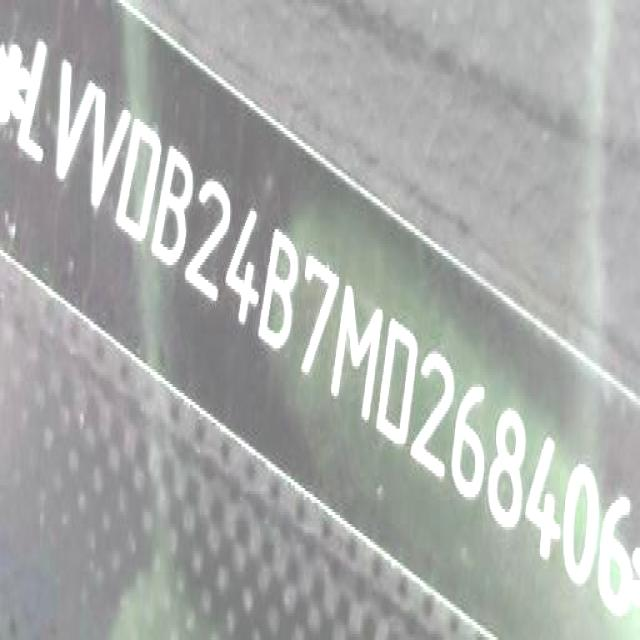0: (557, 449, 606, 600)
2: (182, 155, 240, 317), (408, 338, 460, 488)
4: (218, 186, 272, 340), (523, 426, 572, 576)
5: (594, 476, 640, 628)
6: (445, 365, 497, 514)
7: (293, 236, 347, 400)
8: (482, 390, 534, 537)
B: (253, 214, 308, 363), (148, 131, 202, 281)
D: (112, 104, 170, 258), (373, 308, 428, 464)
L: (8, 24, 64, 172)
M: (330, 282, 389, 433)
V: (77, 72, 136, 235), (46, 48, 106, 199)
